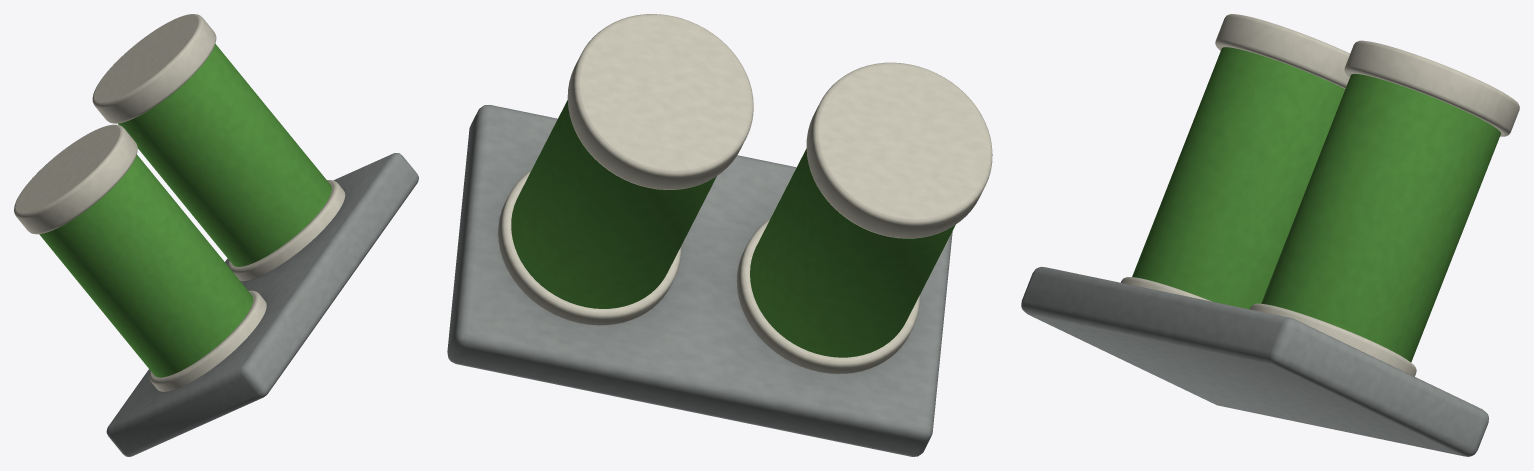
3 renders of one model, left to right at view 1: azimuth 30°, elevation 25°; view 2: azimuth 150°, elevation 25°; view 3: azimuth 270°, elevation 25°, orthographic. The views are drawn at different scales.
Visible parts, largest first — view 1: Common vial carrier; view 2: Common vial carrier; view 3: Common vial carrier.
Boxes of the visible parts, <box> form: Common vial carrier: <box>14,14,418,456</box>; Common vial carrier: <box>447,14,992,456</box>; Common vial carrier: <box>1021,14,1519,456</box>.
Bounding box in the file's own units: 1.35 × 1.15 × 1.18.
1 material, 1 textured.
